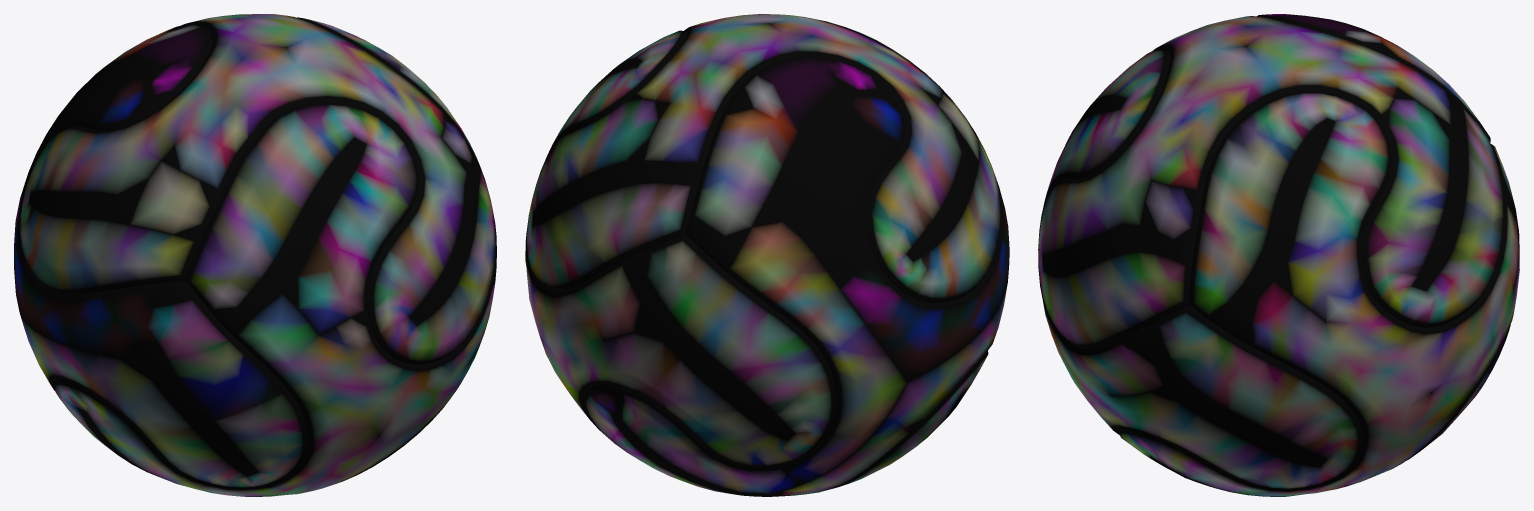
File: Ball_SphereGulp_SM.glb
3 views of the same model, side by side, from view 1: azimuth 30°, elevation 25°; view 2: azimuth 150°, elevation 25°; view 3: azimuth 270°, elevation 25° (orthographic).
Visible parts, largest first — view 1: Ball_SphereGulp_SM; view 2: Ball_SphereGulp_SM; view 3: Ball_SphereGulp_SM.
Boxes of the visible parts, x1,y1,x2,y2 form: Ball_SphereGulp_SM: [14, 14, 496, 496]; Ball_SphereGulp_SM: [525, 14, 1009, 496]; Ball_SphereGulp_SM: [1038, 14, 1519, 496].
Bounding box in the file's own units: 1.86 × 1.86 × 1.86.
